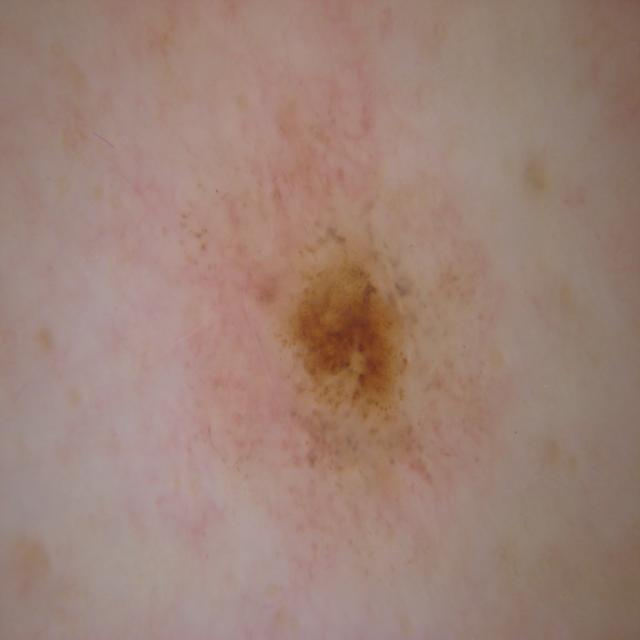Skin-Cancer Nevus: (120, 71, 586, 640)
